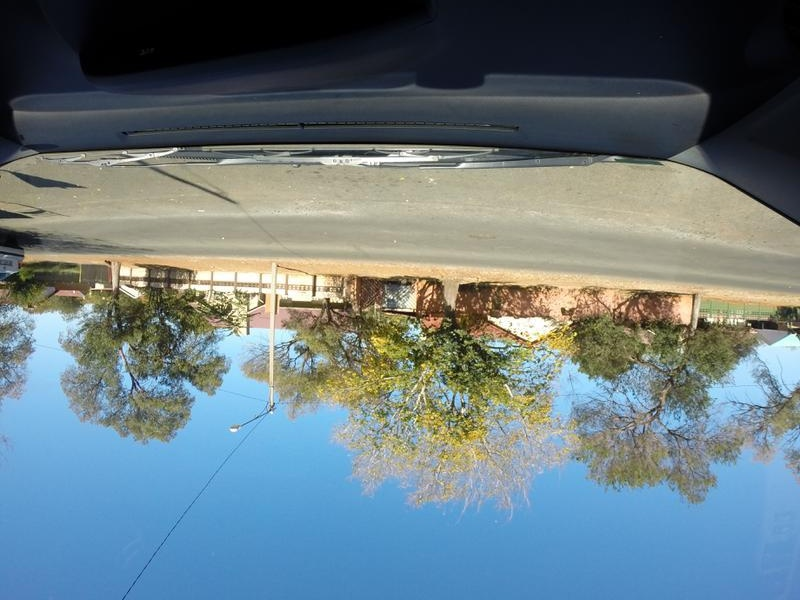pothole: (470, 230, 497, 240)
